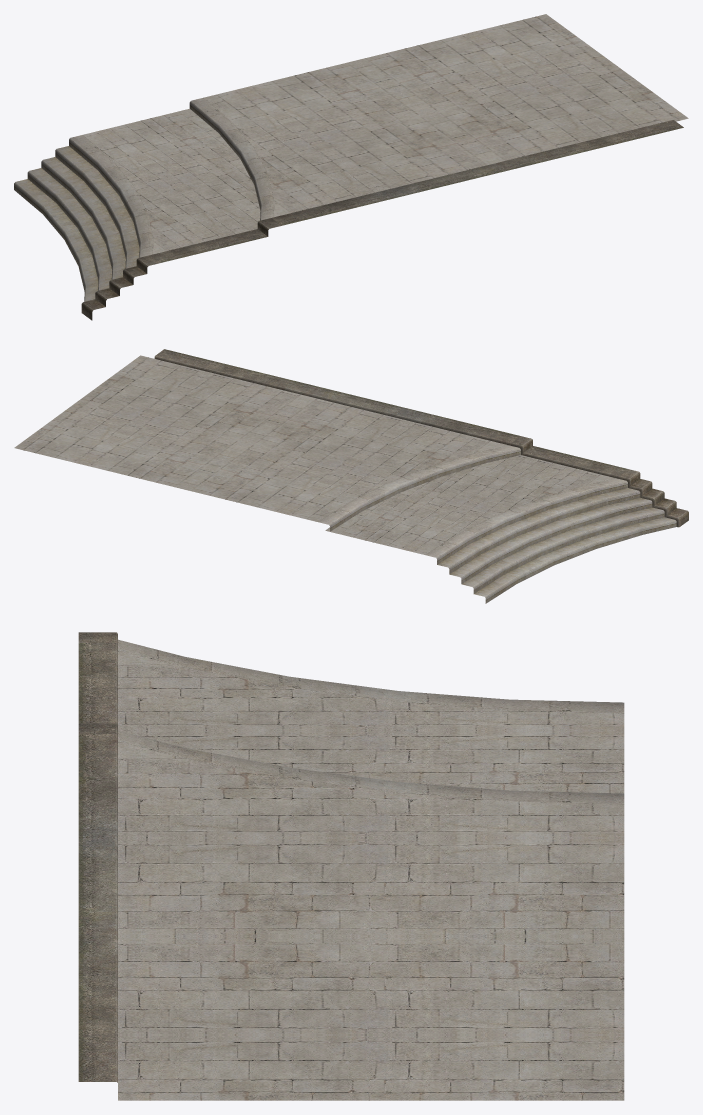
Rendered from Stairs5.fbx.
3 renders of one model, top to bottom at view 1: azimuth 30°, elevation 25°; view 2: azimuth 150°, elevation 25°; view 3: azimuth 270°, elevation 25°, orthographic. The views are drawn at different scales.
Parts seen in each view (by area): view 1: LV_Campagna_Uni_CityHStair02_SM_CJH; view 2: LV_Campagna_Uni_CityHStair02_SM_CJH; view 3: LV_Campagna_Uni_CityHStair02_SM_CJH.
Part boxes in pixels (x1,y1,x2,y2): LV_Campagna_Uni_CityHStair02_SM_CJH: (14, 14, 688, 320); LV_Campagna_Uni_CityHStair02_SM_CJH: (14, 349, 688, 603); LV_Campagna_Uni_CityHStair02_SM_CJH: (78, 632, 624, 1100).
Size of the model in its own units: 4.42 by 0.34 by 1.94.
